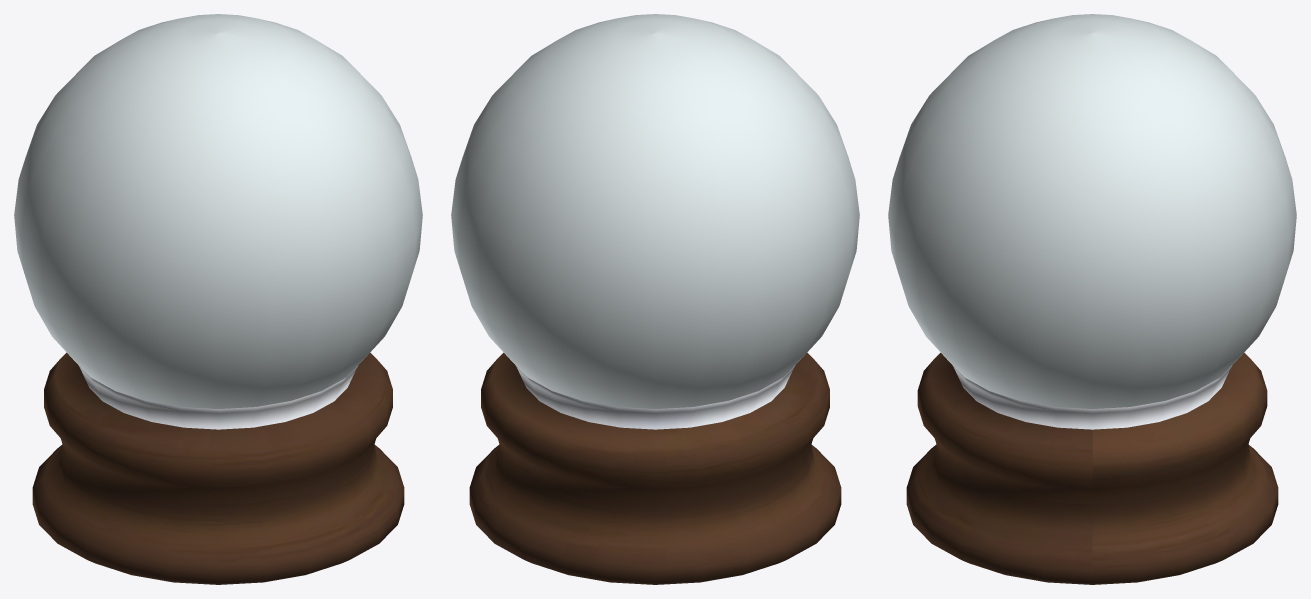
The model's file is snow_globe.glb.
3 renders of one model, left to right at view 1: azimuth 30°, elevation 25°; view 2: azimuth 150°, elevation 25°; view 3: azimuth 270°, elevation 25°, orthographic.
Parts seen in each view (by area): view 1: globe_glass, globe_base; view 2: globe_glass, globe_base; view 3: globe_glass, globe_base.
Boxes of the visible parts, x1,y1,x2,y2 form: globe_glass: (14, 14, 422, 408); globe_base: (32, 352, 404, 584); globe_glass: (451, 14, 859, 408); globe_base: (469, 352, 841, 584); globe_glass: (888, 14, 1296, 408); globe_base: (906, 352, 1278, 584).
Size of the model in its own units: 1.1 by 1.42 by 1.1.
2 materials, 1 textured.
